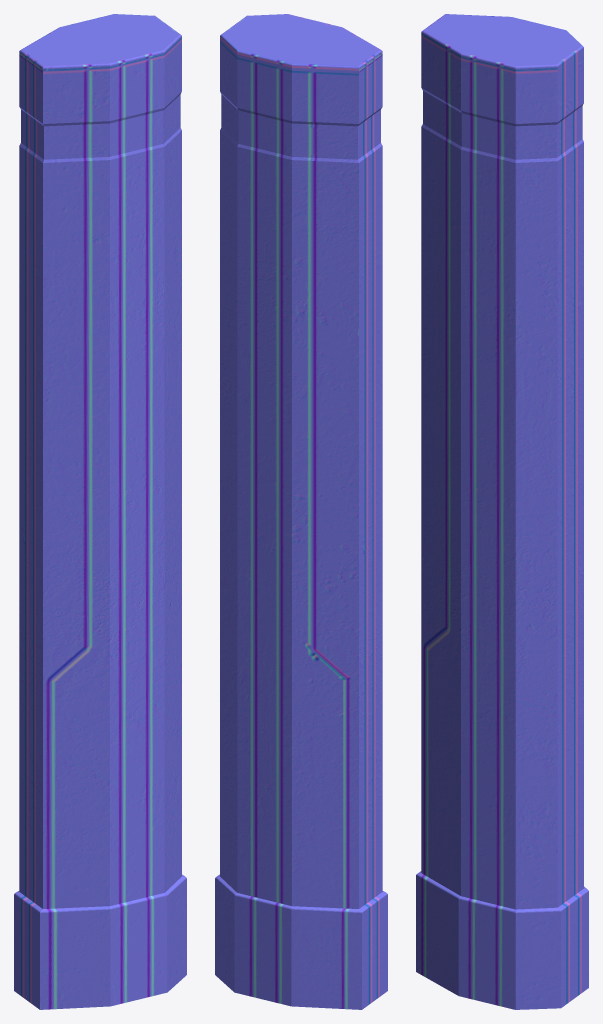
Rendered from giant pillar 01.fbx.
The picture shows the model from 3 angles, left to right: view 1: azimuth 30°, elevation 25°; view 2: azimuth 150°, elevation 25°; view 3: azimuth 330°, elevation 25°; orthographic projection.
Visible parts, largest first — view 1: Cube.012; view 2: Cube.012; view 3: Cube.012.
Boxes of the visible parts, left/top/right/bottom form: Cube.012: left=14, top=14, right=186, bottom=1009; Cube.012: left=215, top=14, right=387, bottom=1009; Cube.012: left=416, top=14, right=588, bottom=1009.
Bounding box in the file's own units: 1966 × 12119 × 1260.
